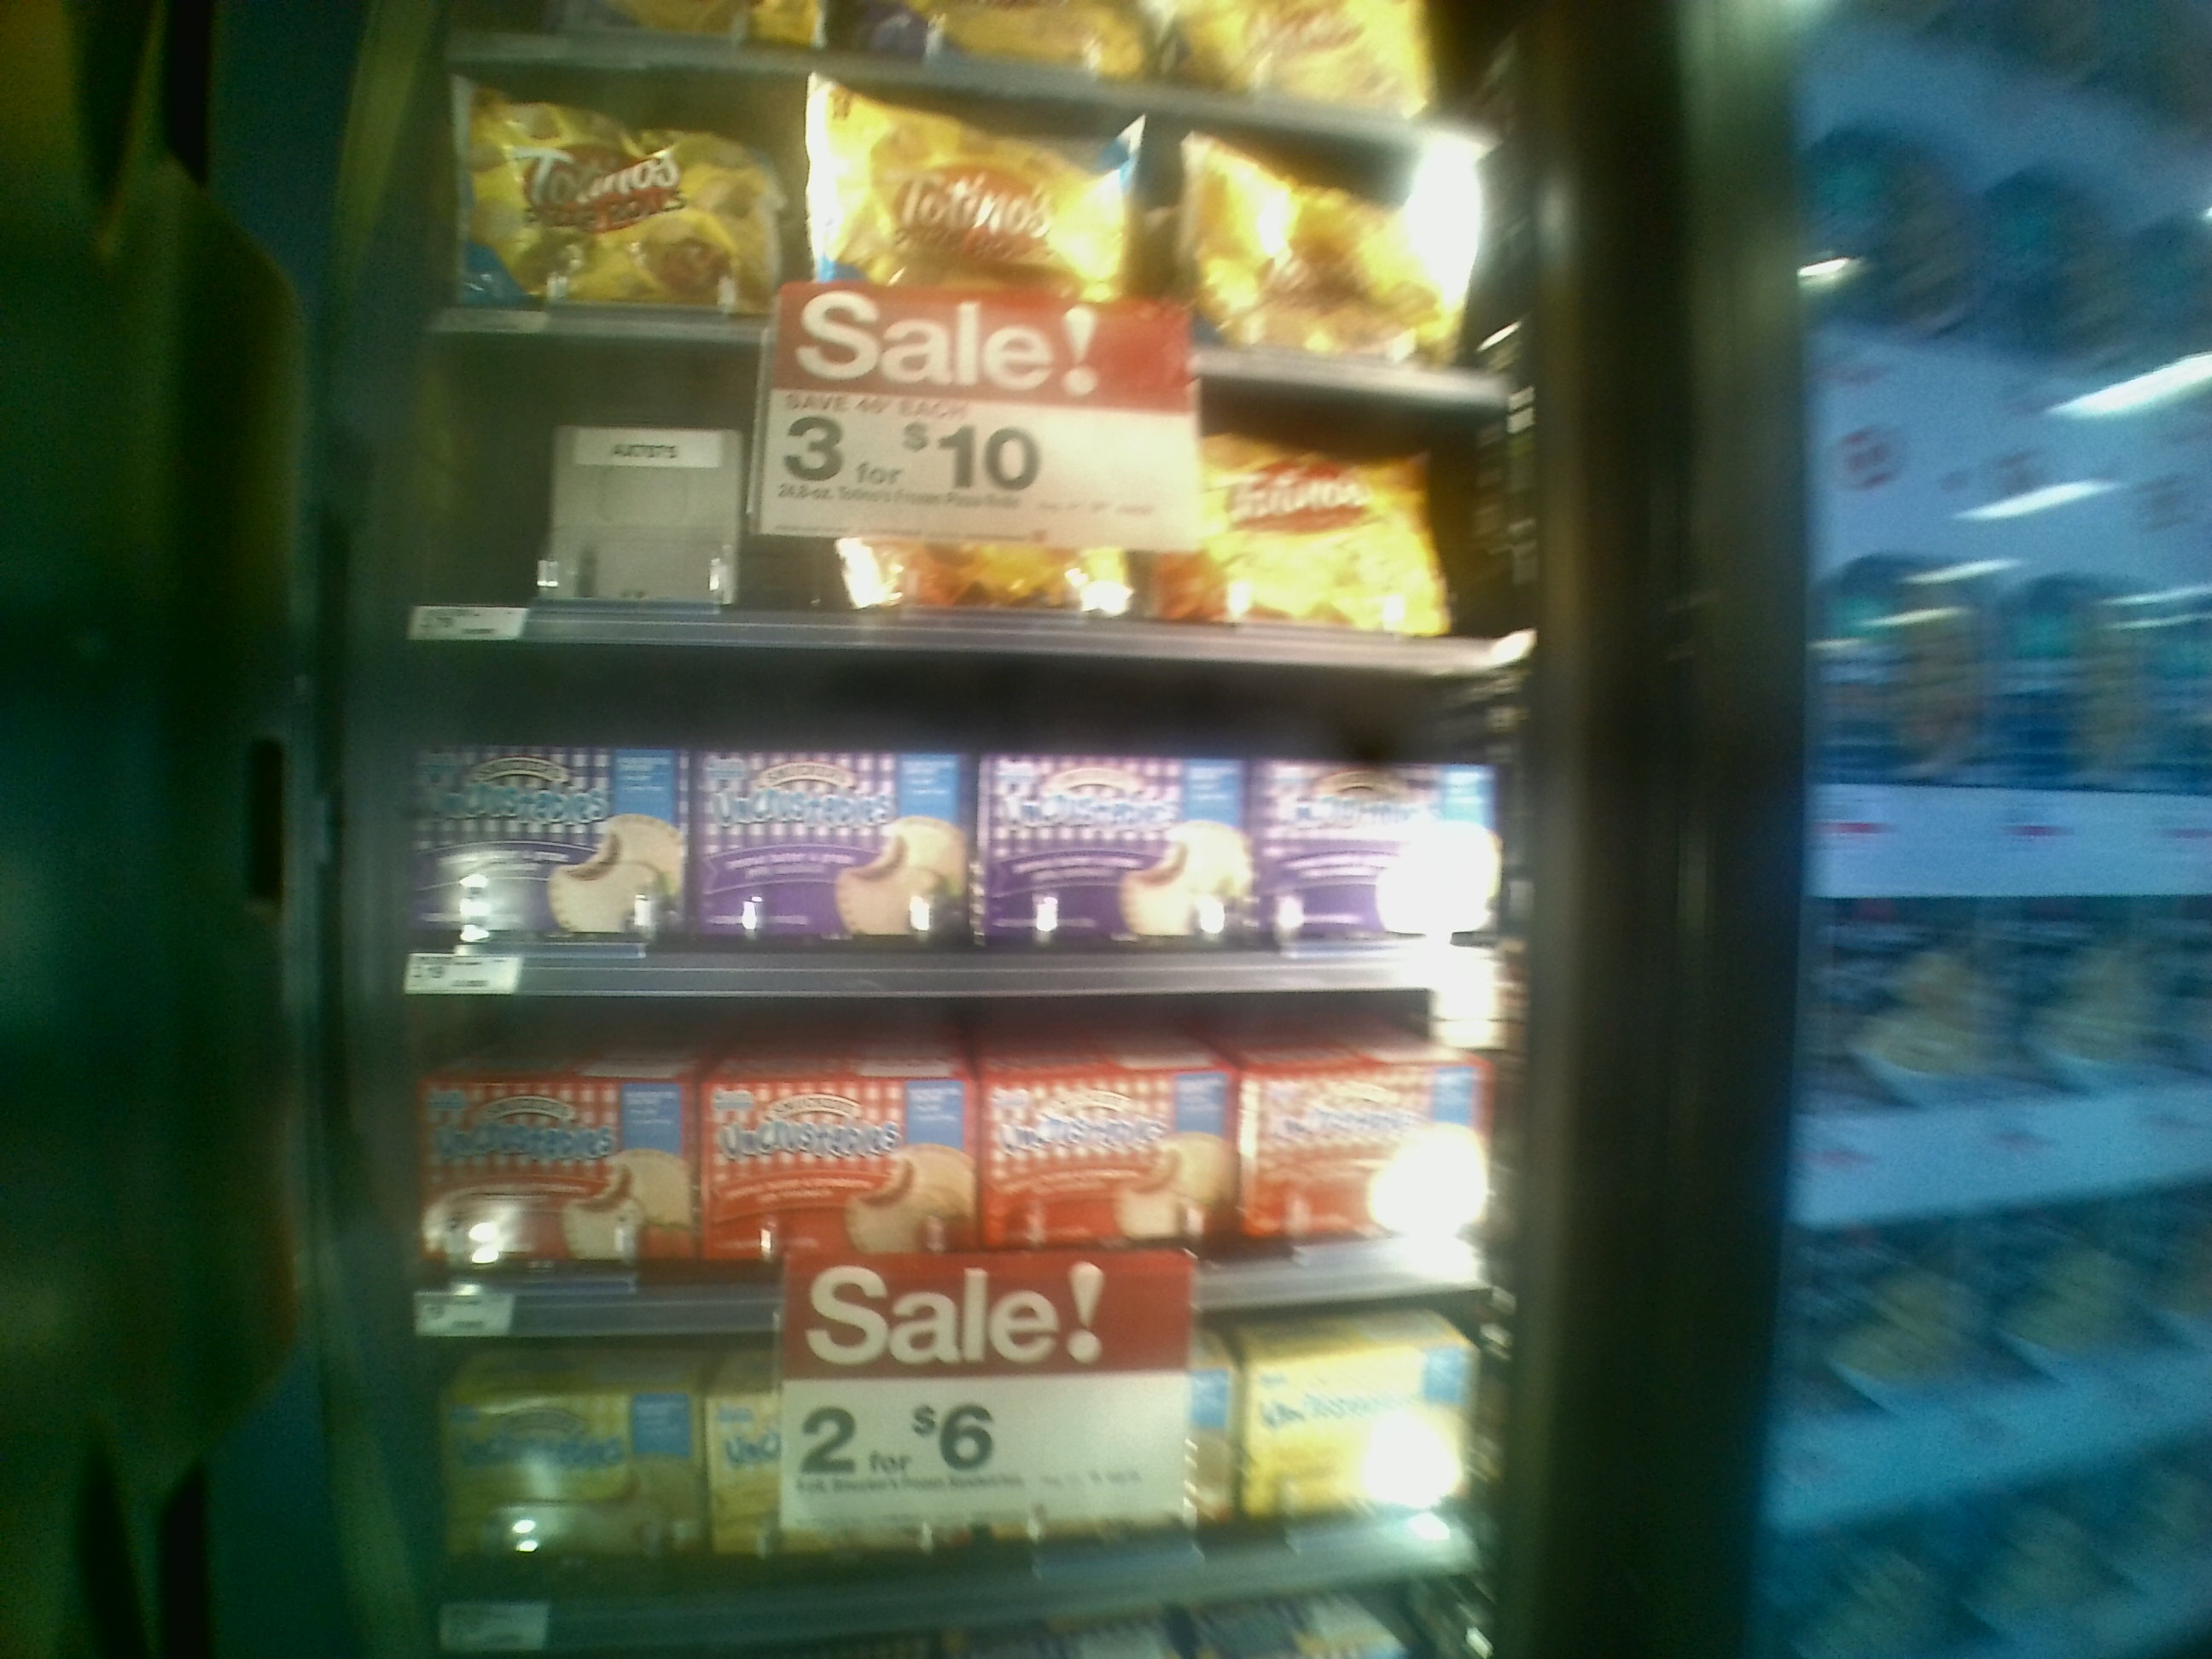shelf: (388, 633, 1519, 1011), (364, 979, 1531, 1342)
